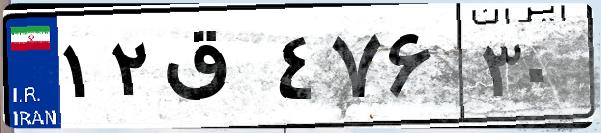0: (525, 38, 570, 115)
1: (57, 26, 110, 100)
2: (110, 28, 158, 98)
3: (475, 38, 525, 113)
4: (270, 28, 330, 110)
6: (385, 28, 445, 110)
7: (330, 28, 385, 110)
ق: (158, 20, 270, 120)
